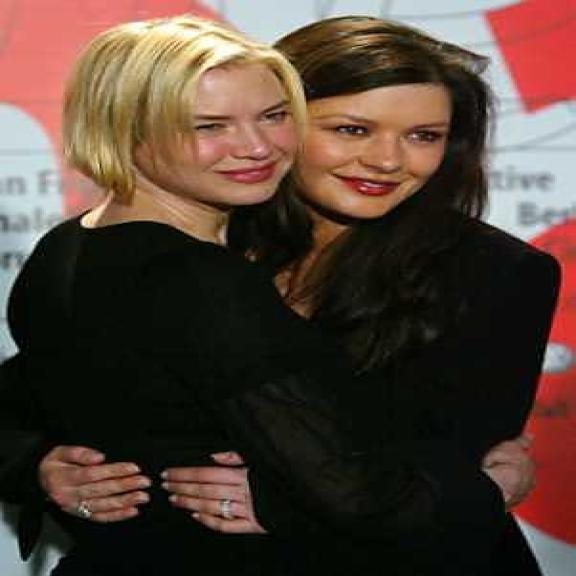face: (133, 50, 299, 216), (300, 58, 454, 221)
